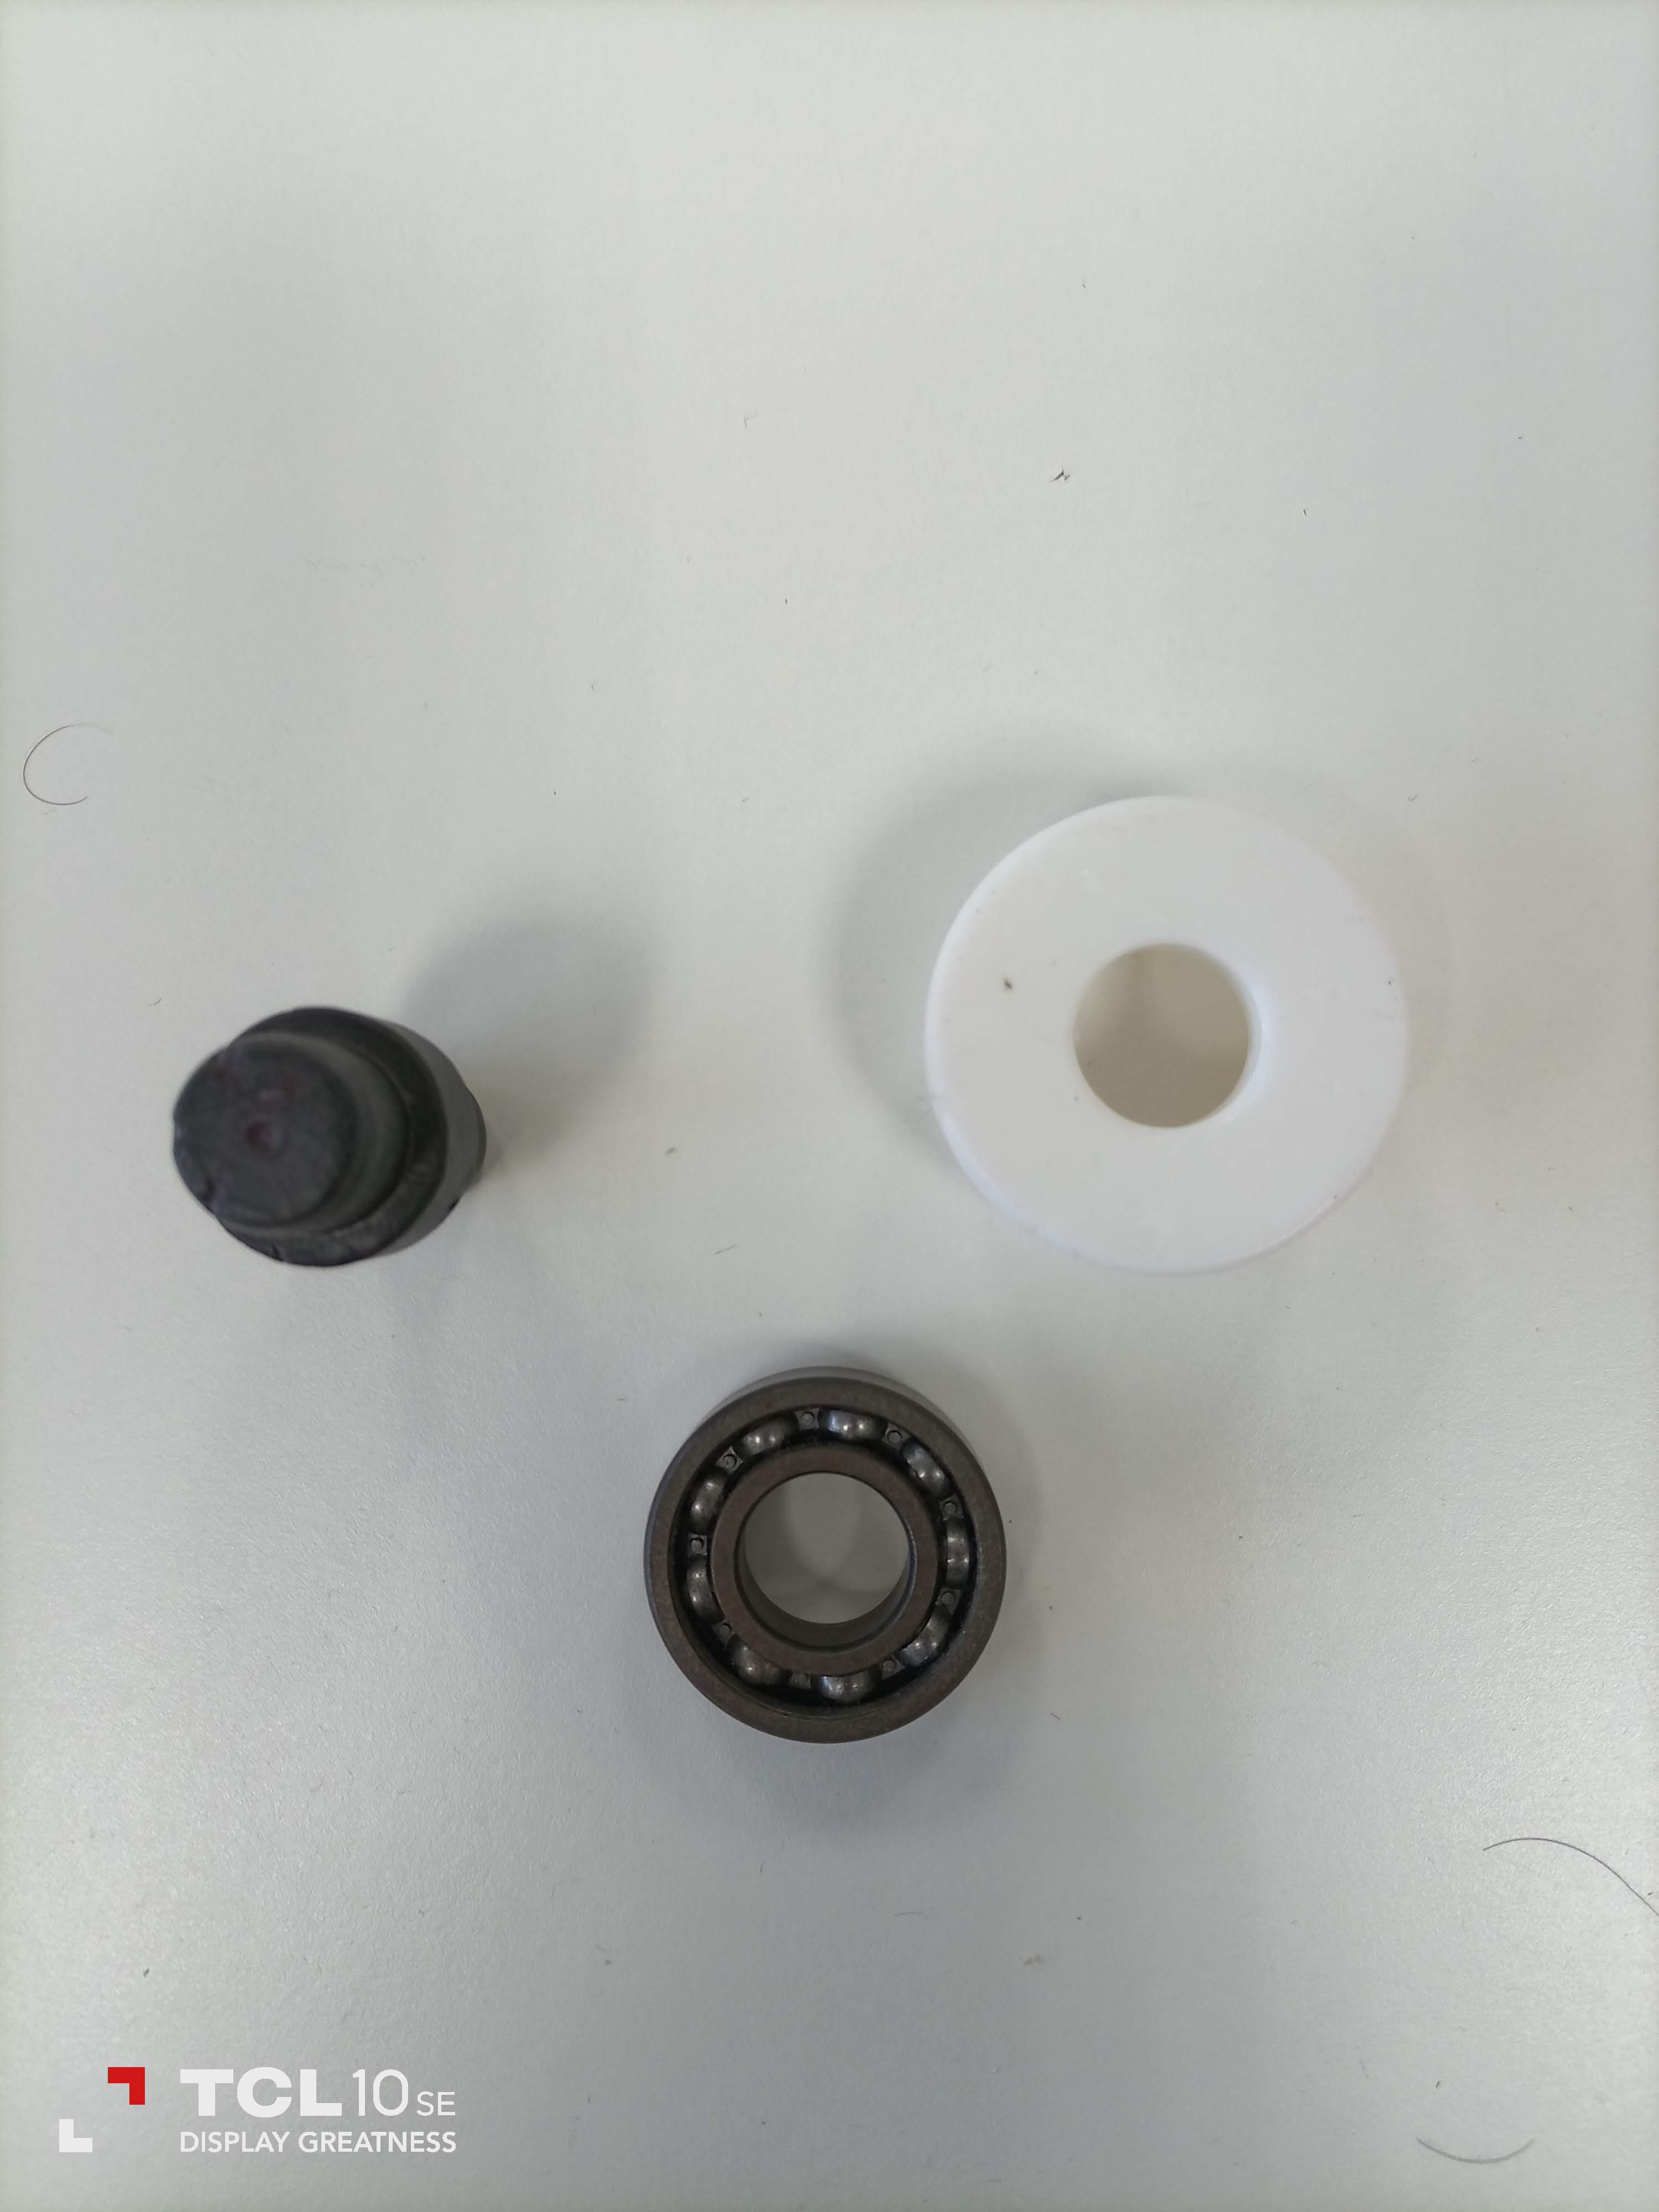Ardatza: (173, 988, 502, 1261)
Roda: (634, 1345, 1025, 1754)
Tapa: (922, 792, 1412, 1271)
